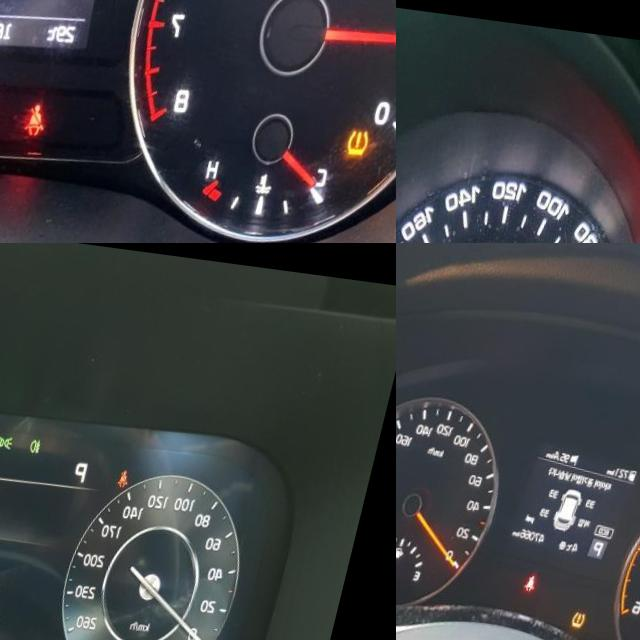FrontFogLight: (39, 428, 53, 446)
Low beam: (0, 425, 7, 440)
SideLamp: (6, 426, 26, 442)
